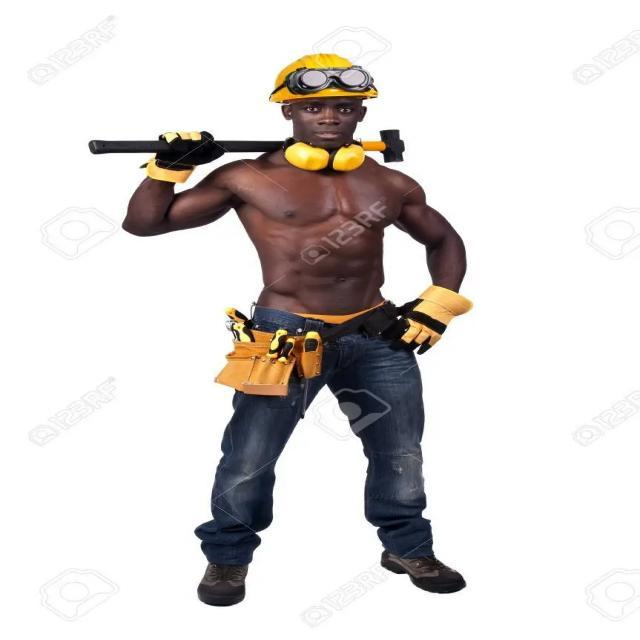hammer: (70, 112, 420, 178)
